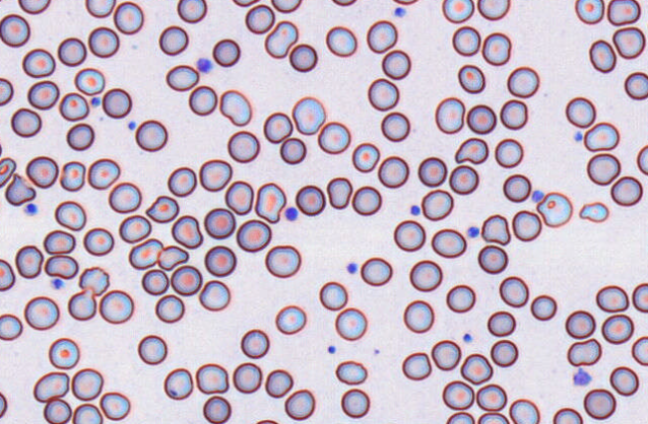PLT: (197, 57, 217, 75), (466, 224, 481, 243), (284, 205, 300, 222), (461, 332, 478, 346), (531, 188, 545, 204), (346, 262, 360, 277), (392, 5, 408, 18), (50, 277, 65, 290), (409, 204, 422, 217), (91, 95, 103, 108), (326, 343, 337, 356), (573, 130, 584, 142)
RBC: (291, 96, 325, 135), (264, 20, 298, 58), (98, 289, 134, 324), (23, 295, 59, 330), (264, 244, 301, 277), (434, 96, 465, 134), (236, 219, 271, 252), (198, 158, 232, 191), (586, 152, 620, 185), (583, 121, 619, 152), (334, 307, 367, 340), (317, 121, 350, 154), (25, 155, 58, 188), (612, 26, 645, 59), (71, 367, 103, 401), (367, 77, 399, 111), (128, 238, 163, 269), (108, 181, 141, 213), (134, 119, 167, 151), (377, 155, 409, 188), (227, 130, 259, 163), (87, 157, 120, 189), (506, 66, 539, 98), (409, 259, 442, 291), (366, 19, 397, 53), (403, 299, 434, 333), (195, 363, 229, 394), (431, 228, 466, 258), (203, 207, 235, 239), (204, 245, 236, 277), (198, 279, 230, 311), (393, 219, 425, 251), (87, 26, 119, 58), (460, 353, 493, 384), (601, 313, 634, 344), (610, 175, 643, 206), (583, 388, 616, 419), (0, 13, 30, 47), (224, 180, 253, 215), (284, 388, 315, 420), (170, 264, 202, 295), (421, 189, 453, 220), (511, 209, 542, 241), (48, 337, 79, 369), (565, 96, 596, 128), (498, 275, 529, 307), (325, 25, 357, 56), (163, 367, 193, 400), (481, 32, 511, 65), (113, 1, 143, 34), (14, 244, 43, 278), (263, 111, 293, 143), (442, 380, 474, 410), (360, 256, 392, 286), (295, 184, 325, 216), (54, 200, 86, 230), (67, 287, 96, 320), (118, 214, 151, 243), (22, 48, 55, 77), (595, 284, 629, 312), (588, 39, 616, 73), (417, 156, 447, 187), (167, 166, 197, 197), (10, 107, 41, 137), (232, 362, 262, 393), (275, 304, 306, 334), (431, 339, 461, 370), (477, 244, 508, 274), (102, 87, 132, 118), (27, 80, 59, 109), (499, 98, 528, 130), (165, 64, 199, 91), (158, 25, 188, 55), (154, 293, 184, 323), (565, 309, 595, 339), (351, 185, 381, 215), (448, 164, 478, 194), (137, 334, 167, 364), (245, 4, 275, 34), (340, 388, 370, 418), (381, 49, 411, 79), (380, 111, 410, 141), (466, 104, 496, 134), (609, 366, 639, 396), (78, 266, 109, 295), (58, 92, 89, 121), (83, 227, 114, 256), (99, 391, 130, 420), (475, 383, 507, 411), (401, 351, 431, 380), (351, 142, 380, 172), (188, 85, 217, 115), (240, 328, 269, 358), (494, 138, 523, 168), (74, 67, 105, 95), (452, 25, 480, 56), (326, 176, 352, 209), (607, 0, 641, 25), (264, 368, 293, 397), (57, 37, 86, 66), (502, 173, 531, 202), (289, 43, 317, 72), (319, 281, 347, 310), (457, 64, 485, 93), (212, 38, 240, 67), (202, 395, 231, 423), (446, 284, 475, 312), (59, 160, 85, 191), (43, 229, 75, 254), (335, 360, 367, 385), (66, 122, 94, 150), (490, 339, 518, 367), (441, 0, 474, 23), (141, 268, 169, 295), (487, 310, 516, 336), (509, 398, 539, 423), (279, 137, 306, 164), (530, 294, 557, 321), (574, 0, 604, 24), (43, 398, 71, 423), (176, 0, 206, 23), (624, 71, 647, 100), (477, 0, 510, 20), (0, 313, 23, 340), (72, 403, 103, 423), (0, 156, 16, 188), (85, 0, 115, 17), (631, 335, 647, 366), (0, 258, 15, 291), (552, 407, 582, 423), (631, 282, 647, 312), (18, 0, 50, 14), (270, 0, 302, 13), (477, 411, 509, 423), (0, 77, 13, 105), (445, 411, 474, 423), (636, 144, 647, 175), (0, 391, 7, 418), (232, 0, 259, 6), (331, 0, 357, 6), (392, 0, 418, 5), (255, 419, 278, 423)
Schistocyte: (254, 182, 287, 224), (535, 191, 572, 228), (219, 88, 252, 128), (31, 370, 70, 403), (170, 215, 205, 249), (479, 214, 512, 249), (5, 173, 36, 208), (567, 339, 602, 367), (455, 137, 488, 164), (44, 255, 79, 280), (146, 197, 179, 223), (158, 245, 189, 272), (577, 202, 610, 223)
